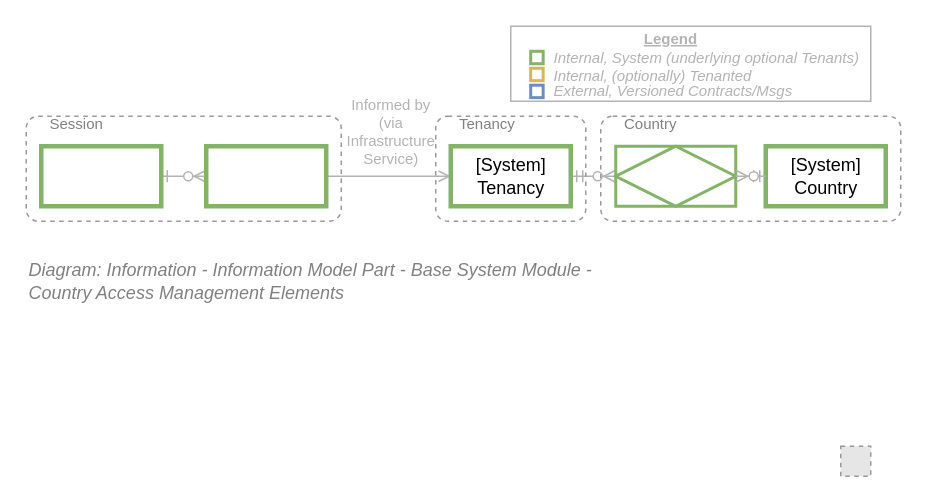
This 927x503 diagram has some shape labels left out. Grey dashed boxes stand in for pictures. Here are the shapes that lost their labels. From the top down, the box of each, then its label:
(38, 143, 163, 208): [System] Session
(203, 143, 328, 208): [System] Session Operation
(614, 144, 736, 207): [System] Country Assignment
